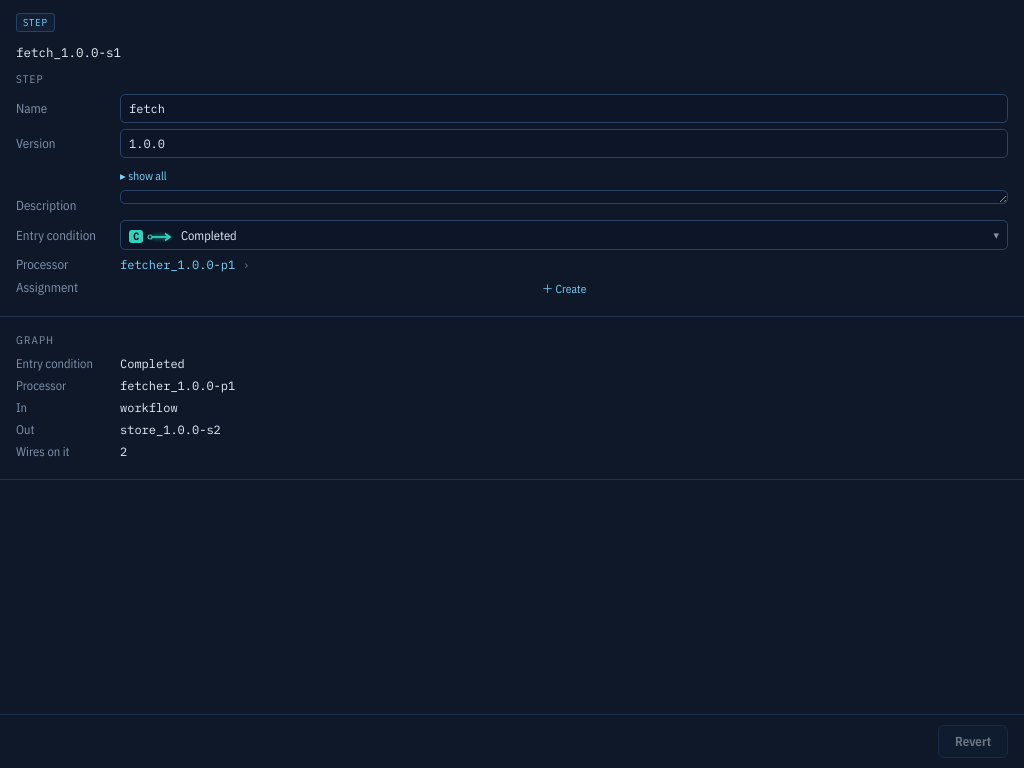
Test case: Inspector editing (plan 8 §3.3: the design, never BaseApi) › drills step → processor → schema with a breadcrumb, and the crumbs go back
Click the button "fetcher_1.0.0-p1". click: {"x": 178, "y": 264}
box: [120,257,1008,272]
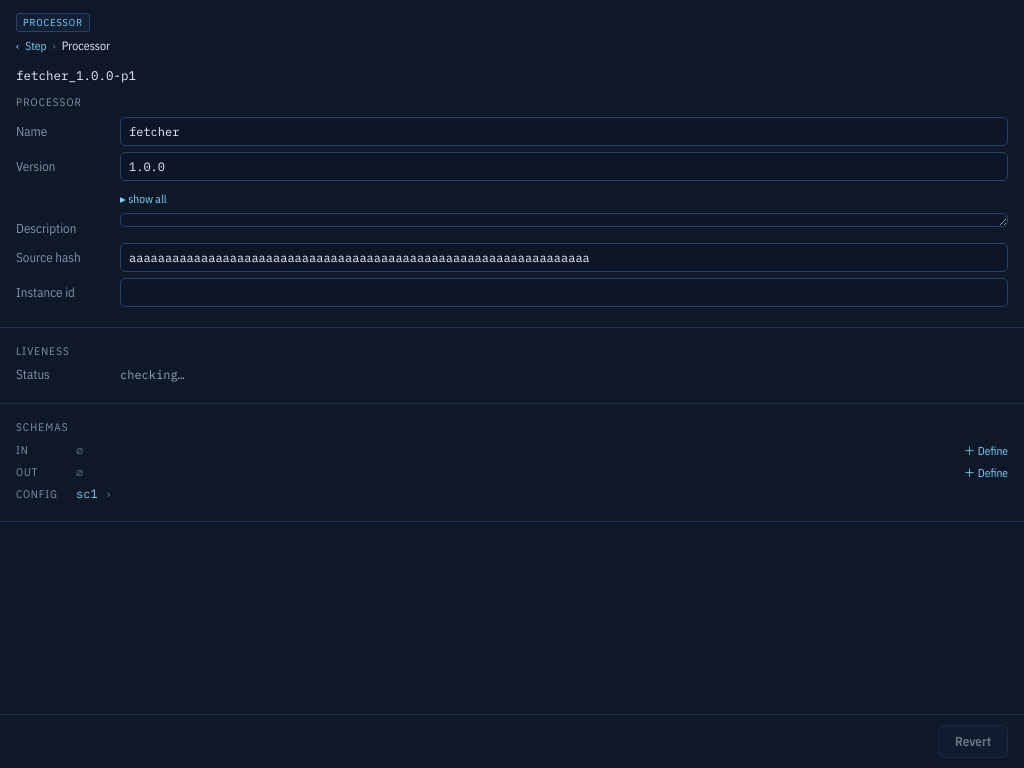
expect the text "PROCESSOR" is shown: met, box [16,13,90,32]
Click the button "sc1". click: {"x": 87, "y": 494}
box: [76,486,1000,501]
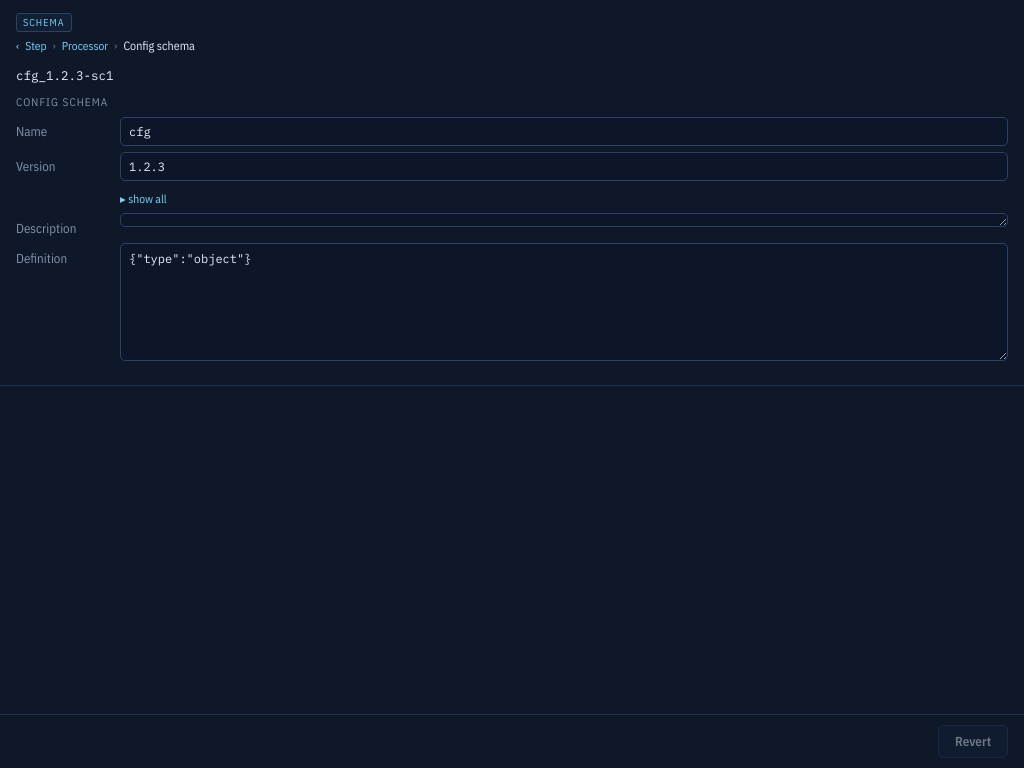
expect the text "SCHEMA" is shown: met, box [16,13,72,32]
Click the button named "Back". click: {"x": 18, "y": 46}
box: [16,38,19,53]
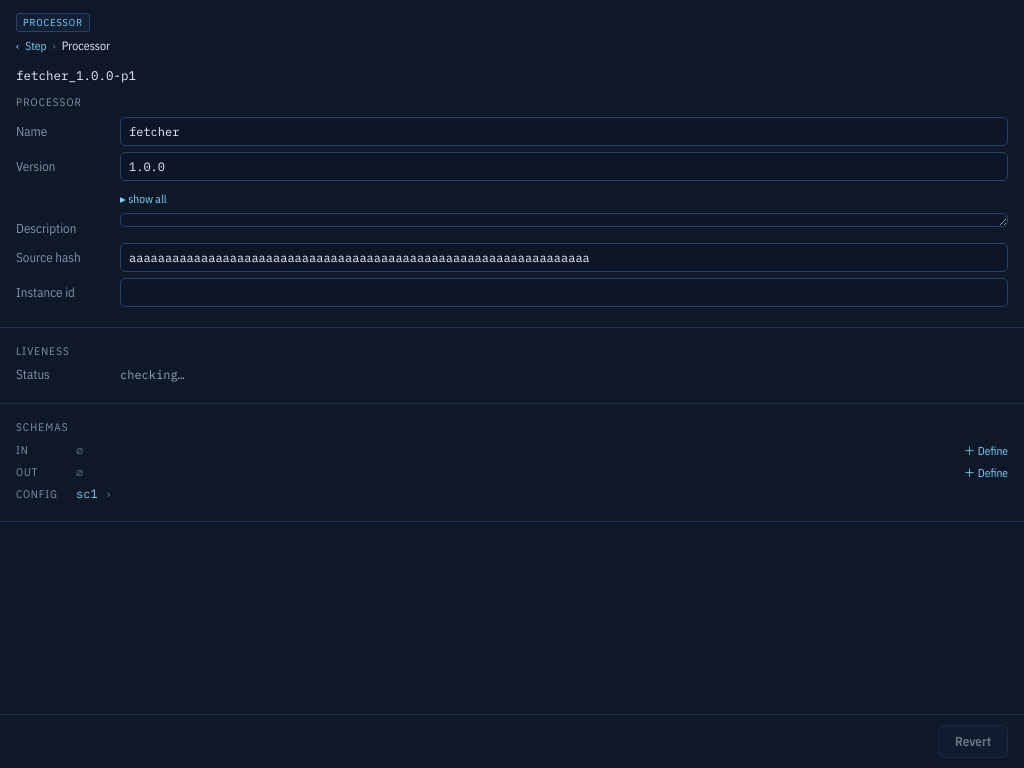
expect the text "PROCESSOR" is shown: met, box [16,13,90,32]
Click the button "Step". click: {"x": 36, "y": 46}
box: [25,38,47,53]
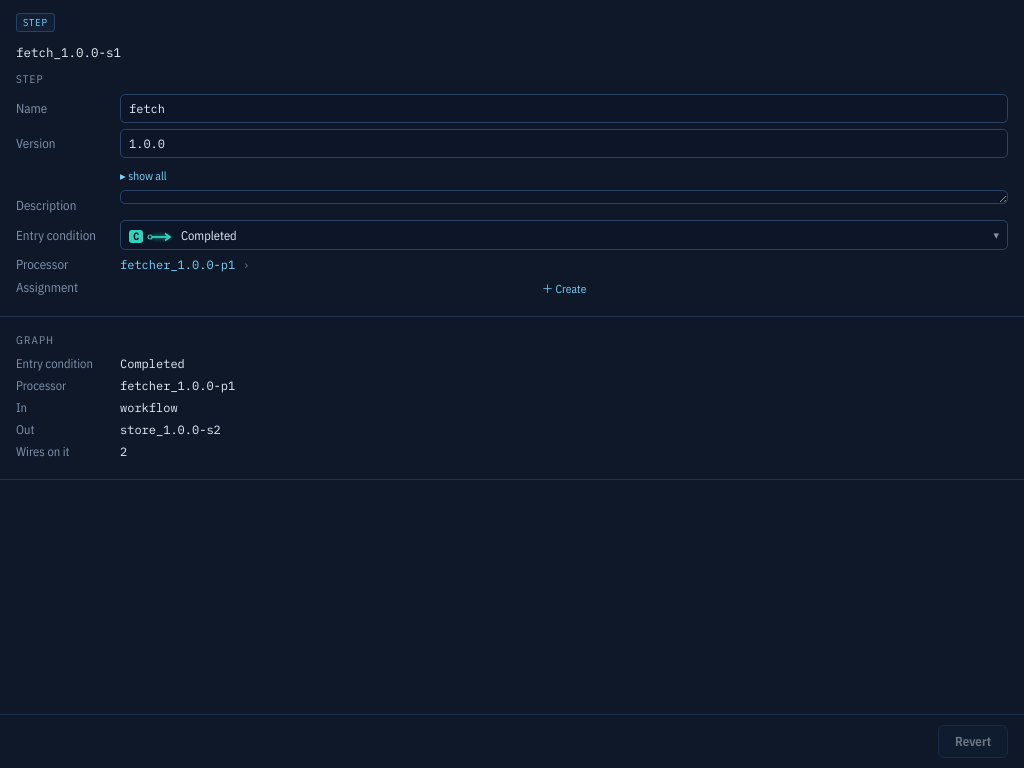
expect the text "STEP" is shown: met, box [16,13,55,32]
expect the navigation bar "Drill-down" is gone: met
